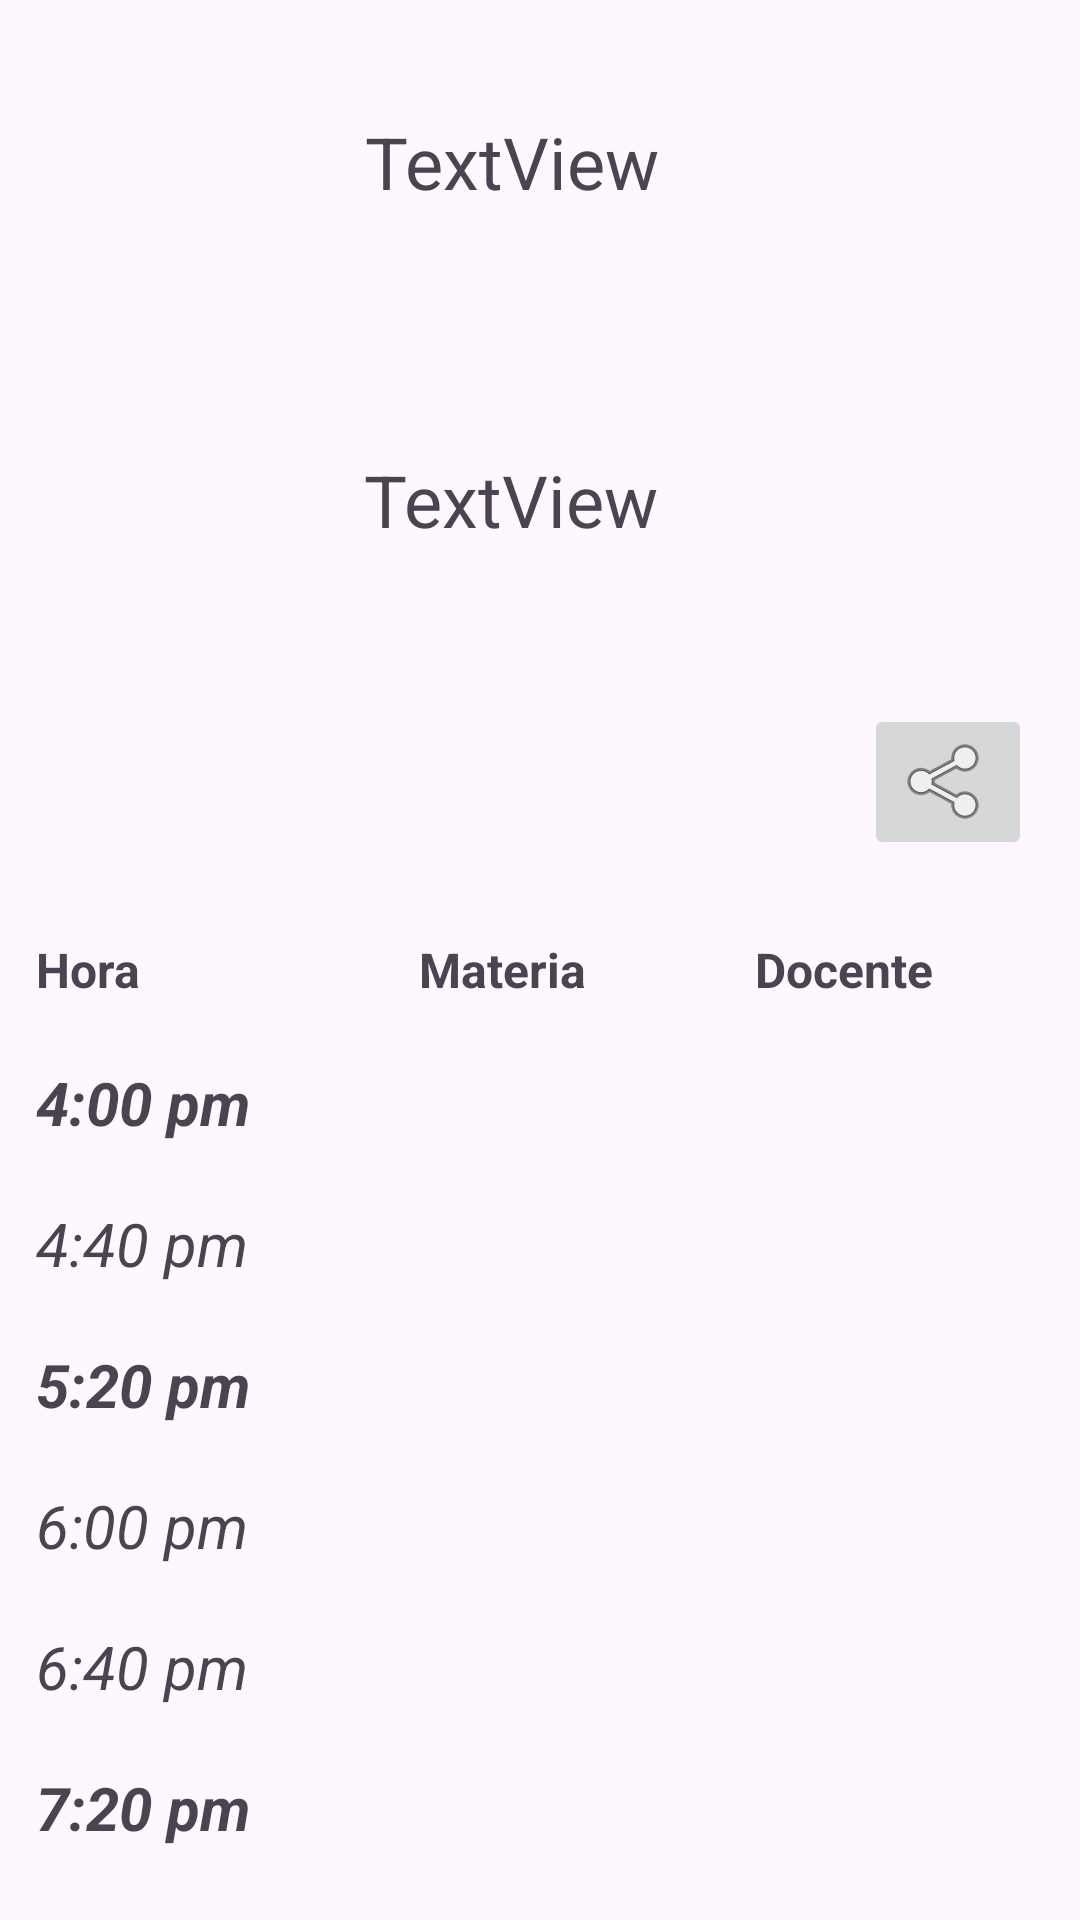

Locate icon controls on the screen. Image size 1080x1920, boxes as [x1=x1, y1=y1, x2=x2, y2=y2].
share: [x1=876, y1=722, x2=1020, y2=842]
